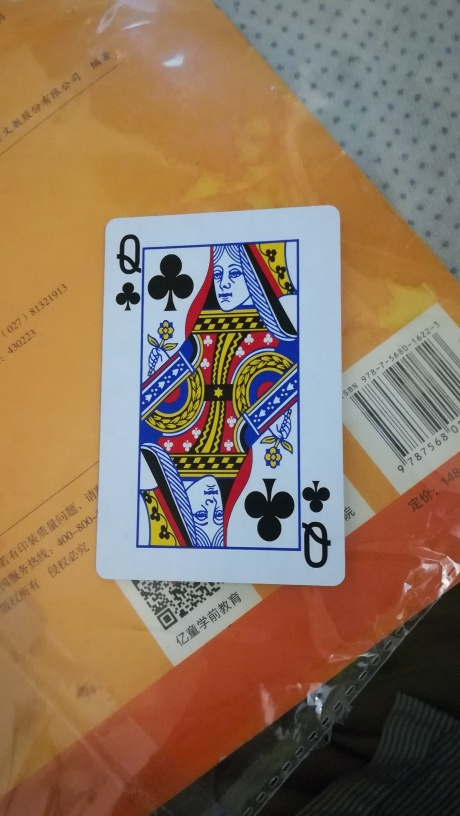mh q: (100, 203, 346, 589)
